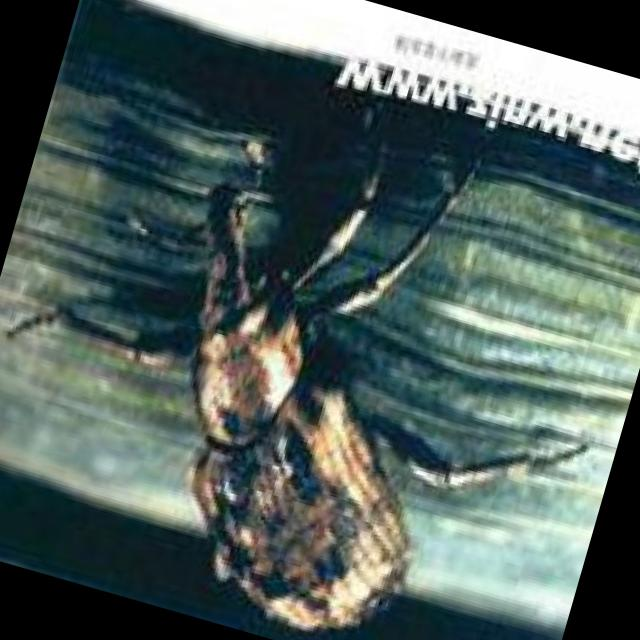rice-bug: (92, 151, 519, 640)
